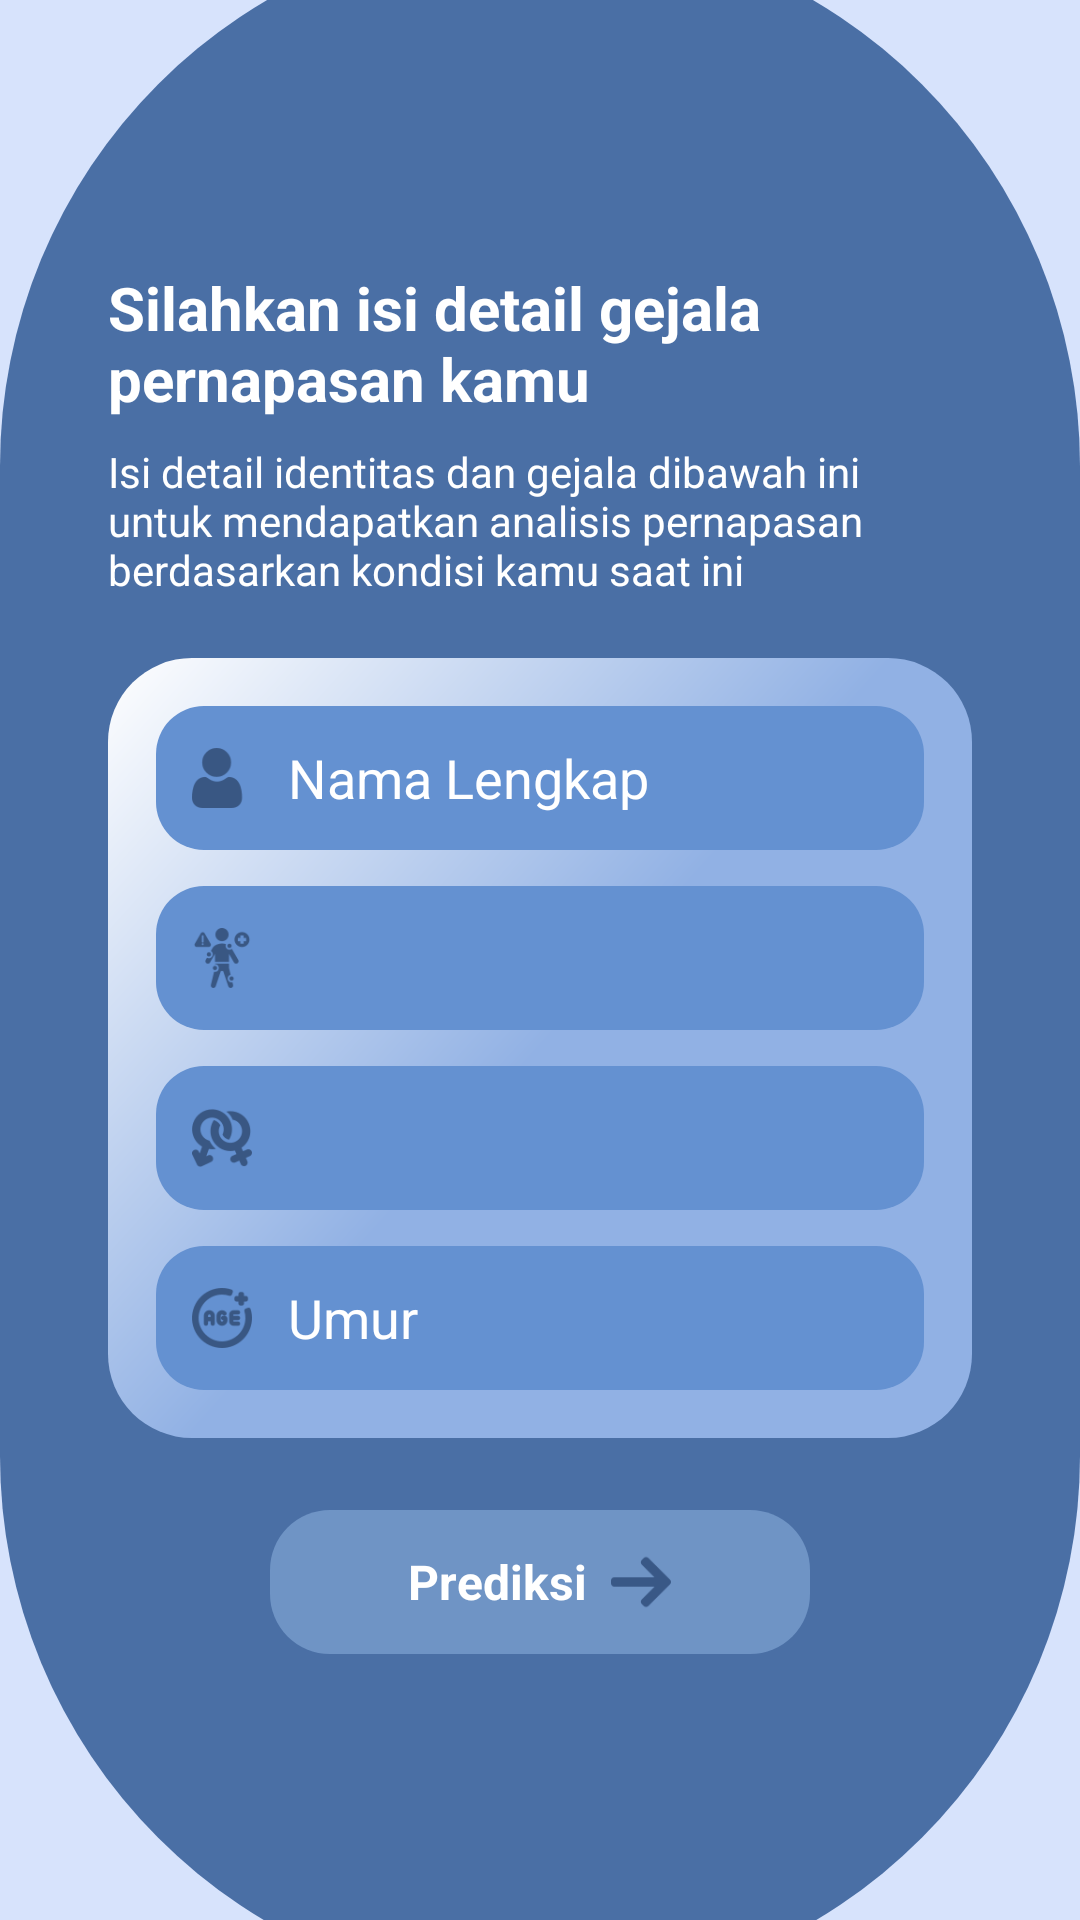

Icon click points for this 1080w x 1920h phone screenshot, format (x,y):
arrow: (641,1582)
sex: (222,1138)
symptoms: (222,958)
user: (217,778)
